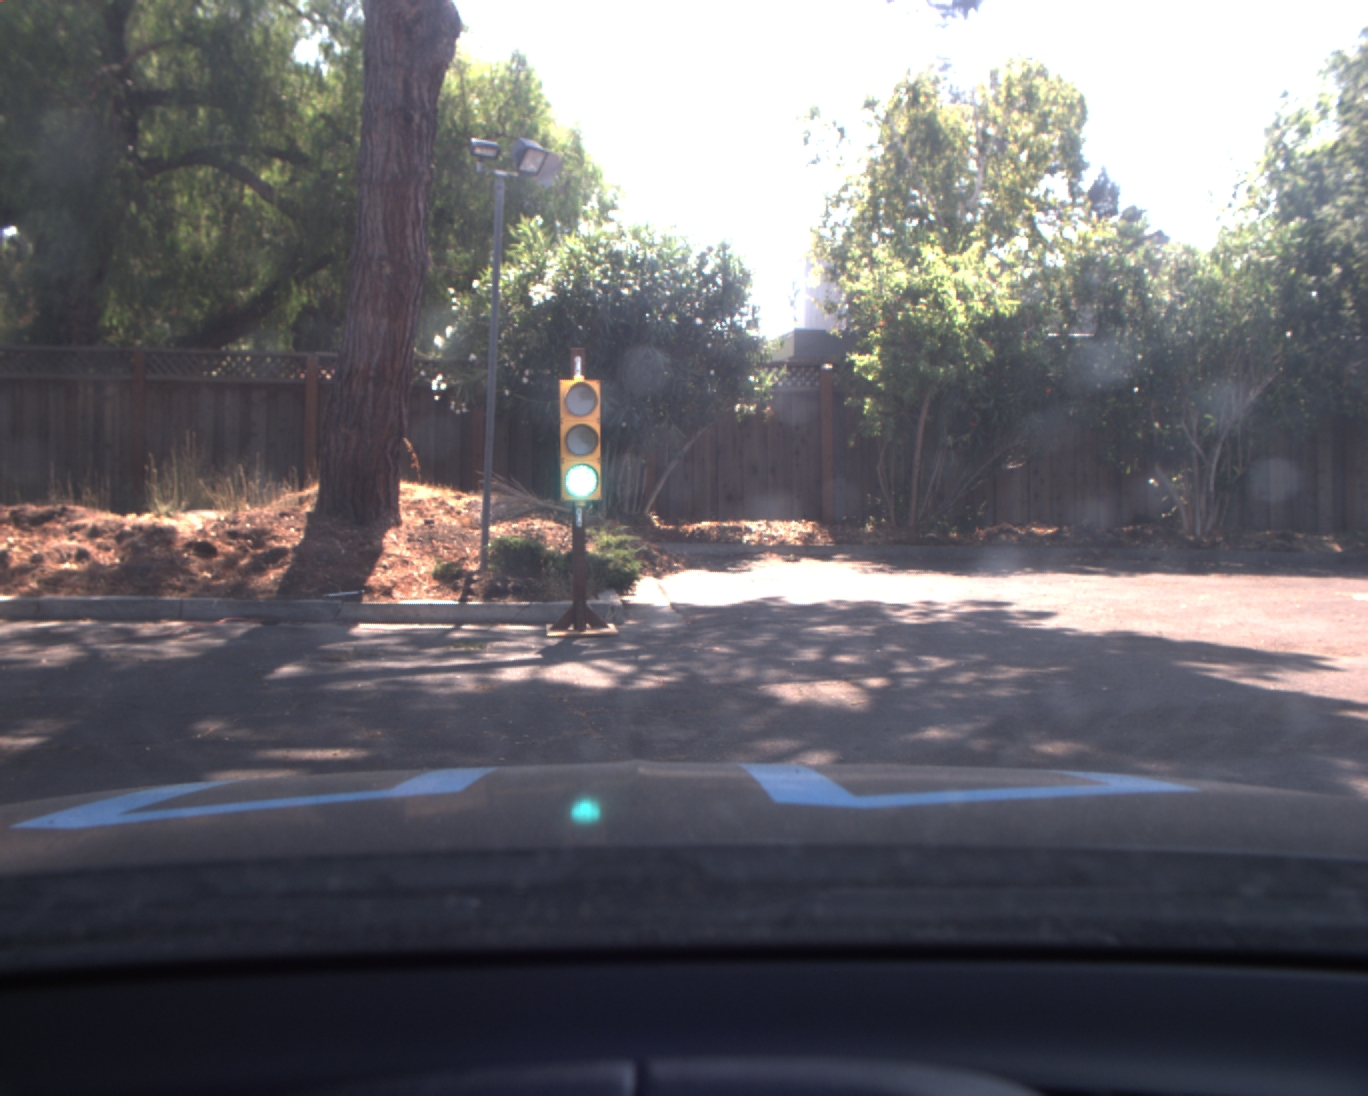green: (557, 379, 609, 503)
